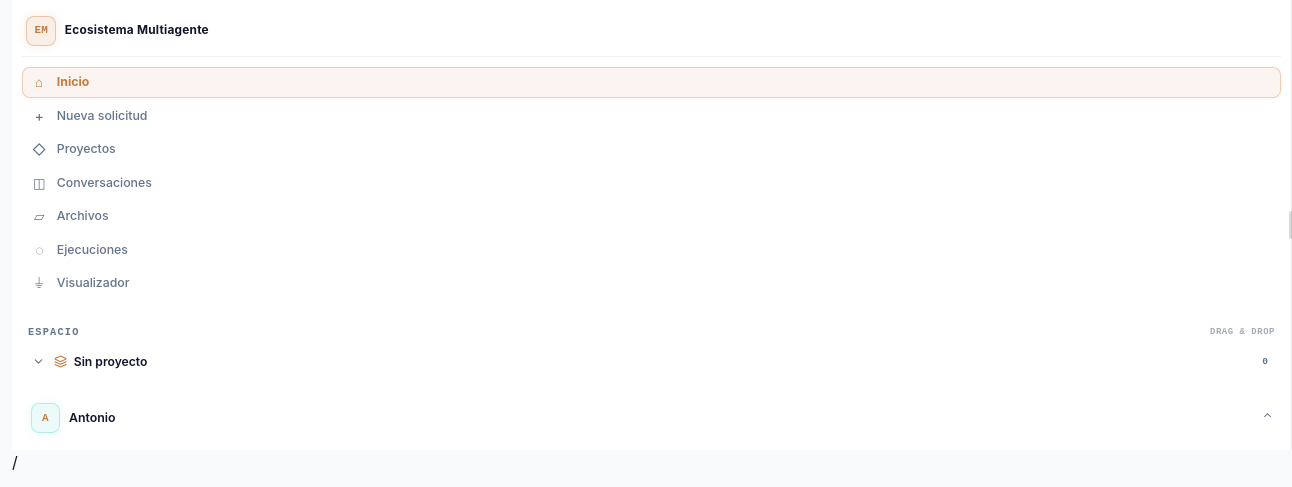
Test: closes before delegating sign out
Click the button with aria-label "Perfil de Antonio". click: click(92, 417)
box: [22,396,1281,440]
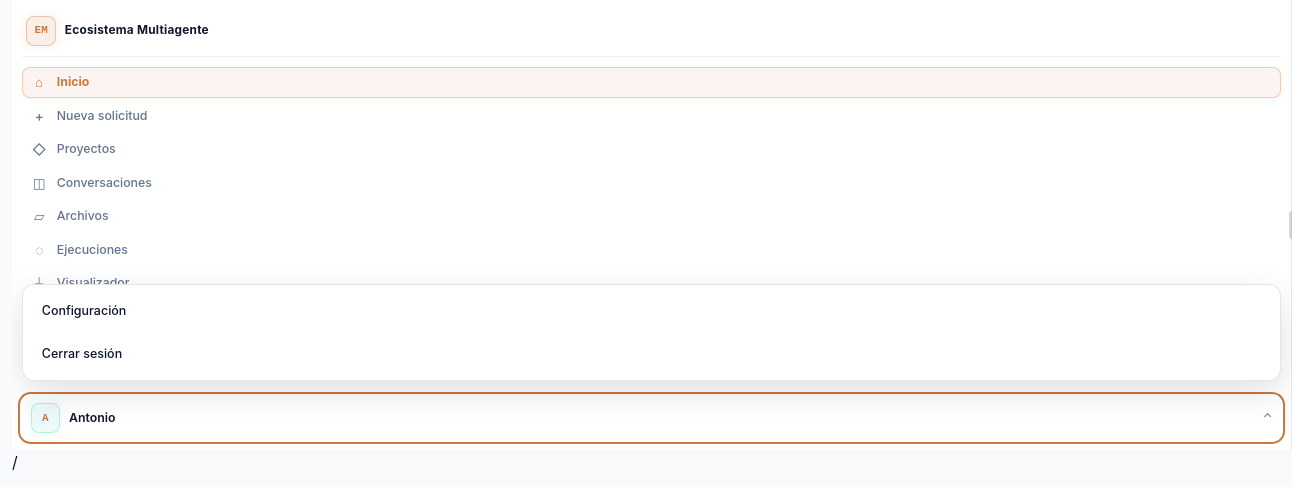
Click the menu item "Cerrar sesión". click: click(82, 353)
box: [30,334,1273,374]
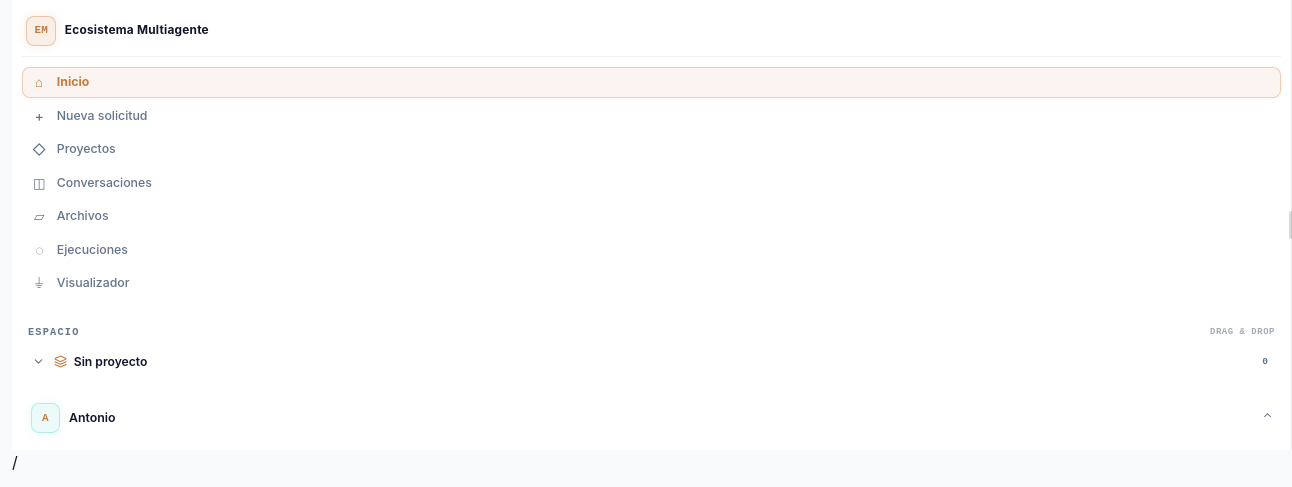
Expected: the menu is gone
